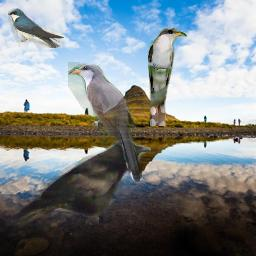Crow: (11, 138, 151, 225)
Cuckoo: (68, 62, 145, 184), (147, 27, 187, 126)
Swallow: (8, 8, 64, 48)
